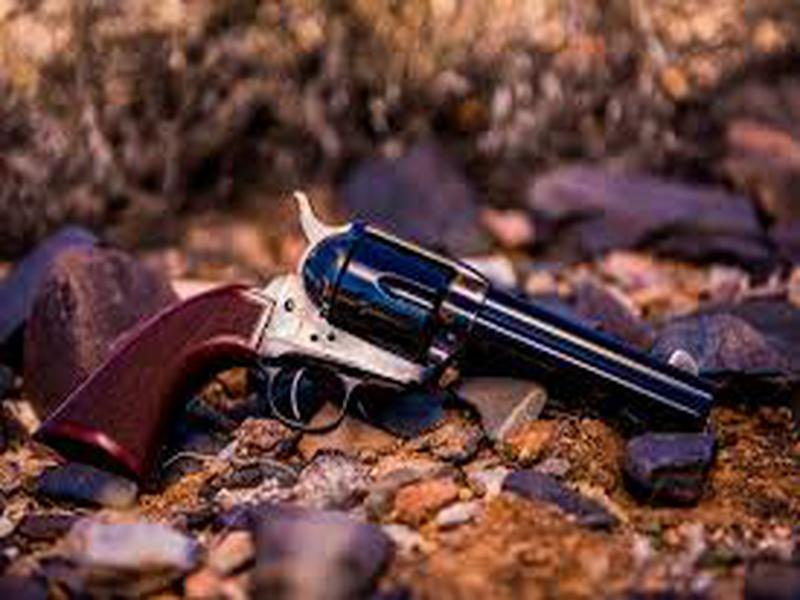gun: (29, 188, 721, 467)
